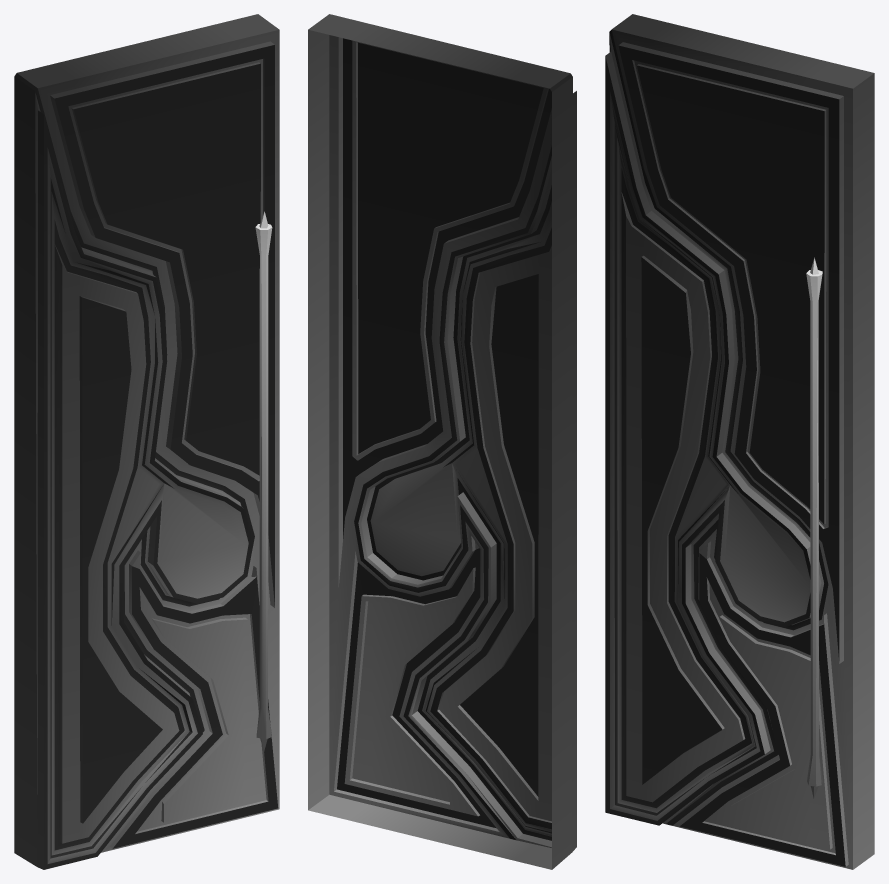
File: halfGate.fbx
3 views of the same model, side by side, from view 1: azimuth 30°, elevation 25°; view 2: azimuth 150°, elevation 25°; view 3: azimuth 330°, elevation 25° (orthographic).
Parts seen in each view (by area): view 1: gate; view 2: gate; view 3: gate.
Part boxes in pixels (x1,y1,x2,y2): gate: (14,14,279,869); gate: (308,14,576,869); gate: (605,14,874,869).
Bounding box in the file's own units: 100 × 306 × 26.39.
Materials: 1 (1 with a texture image).
